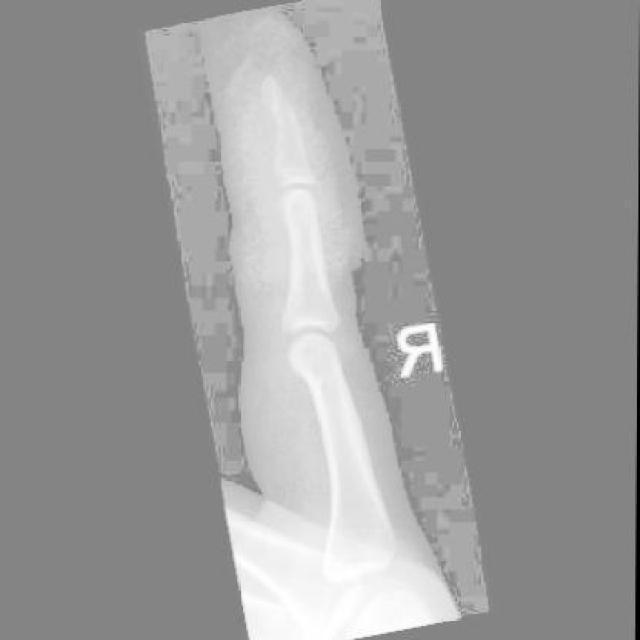Fracture: (262, 63, 306, 125)
